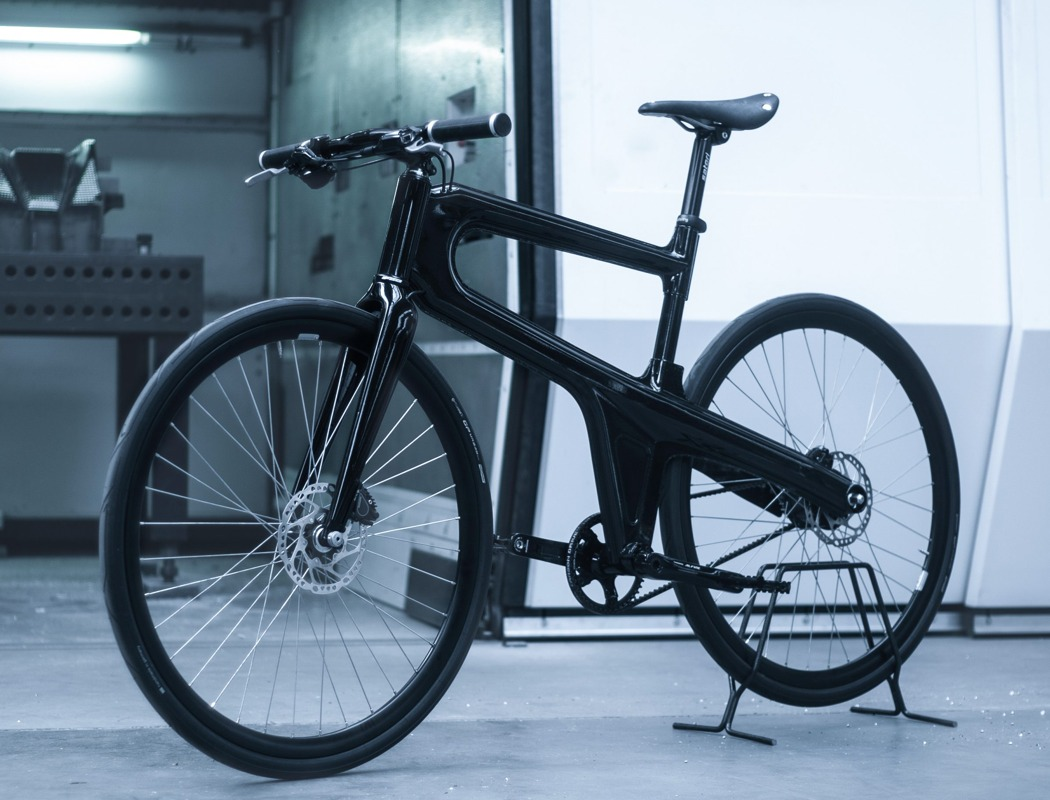MNV: (99, 91, 960, 782)
